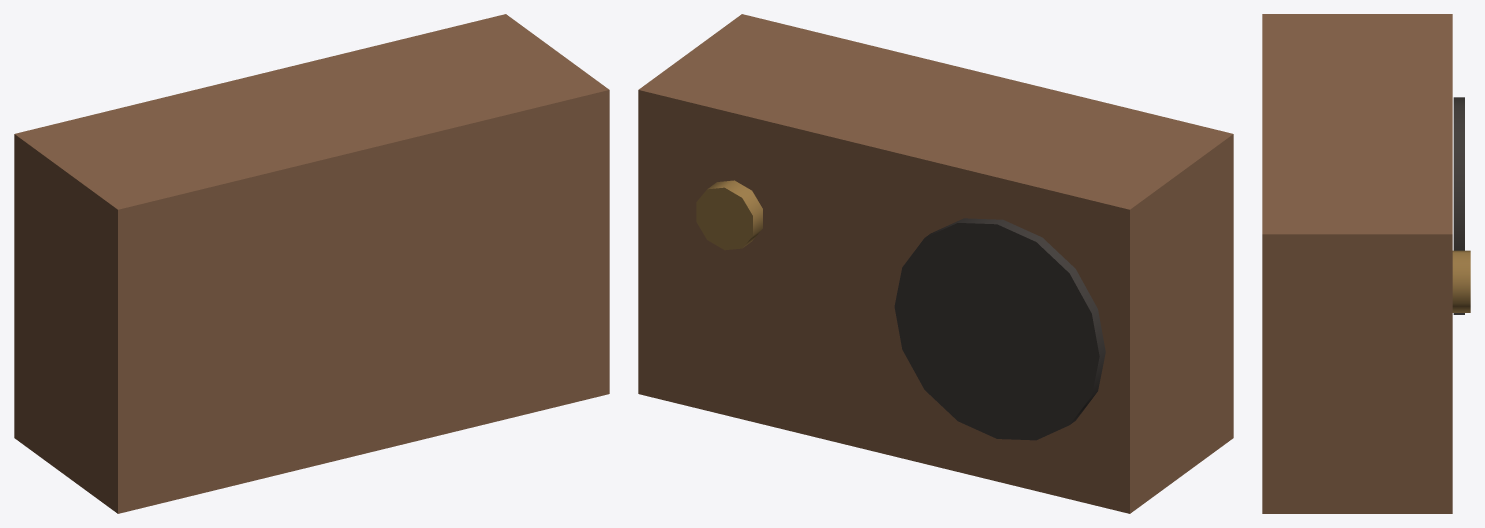
The model's file is radio.glb.
3 renders of one model, left to right at view 1: azimuth 30°, elevation 25°; view 2: azimuth 150°, elevation 25°; view 3: azimuth 270°, elevation 25°, orthographic. The views are drawn at different scales.
Visible parts, largest first — view 1: radio; view 2: radio; view 3: radio.
Part boxes in pixels (<box>): radio: <box>14,14,609,513</box>; radio: <box>638,14,1233,513</box>; radio: <box>1262,14,1470,513</box>.
Bounding box in the file's own units: 1.15 × 0.68 × 0.46.
